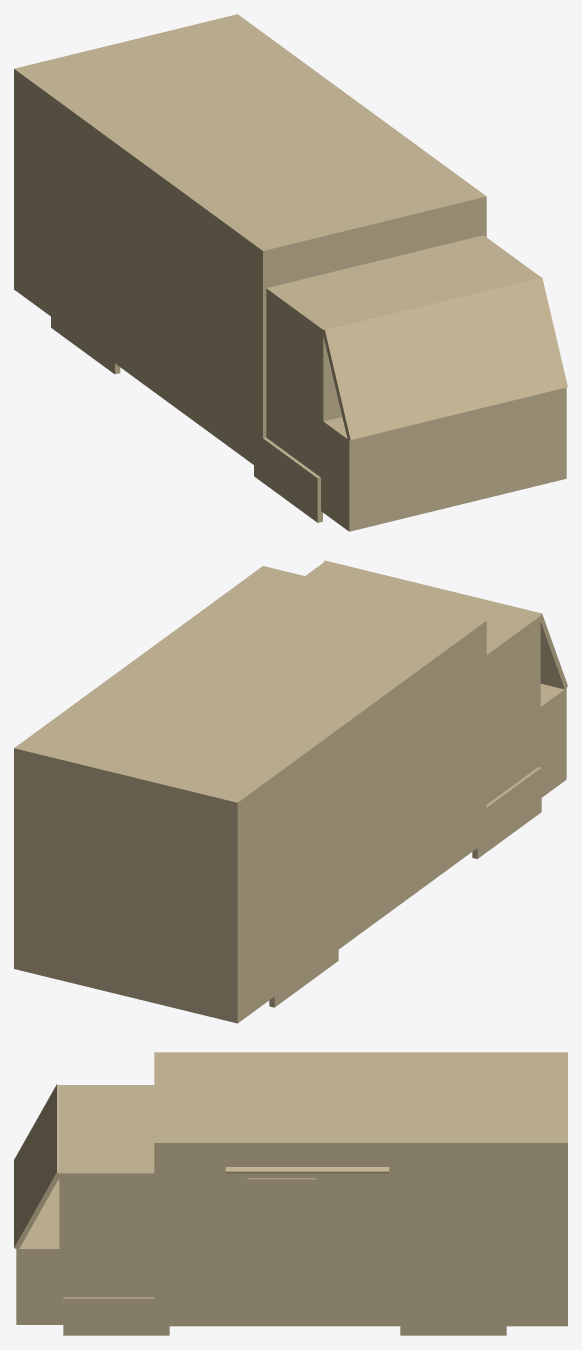
Rendered from van_body.fbx.
The picture shows the model from 3 angles, top to bottom: view 1: azimuth 30°, elevation 25°; view 2: azimuth 150°, elevation 25°; view 3: azimuth 270°, elevation 25°; orthographic projection. The views are drawn at different scales.
Parts seen in each view (by area): view 1: VanBody; view 2: VanBody; view 3: VanBody.
Boxes of the visible parts, x1,y1,x2,y2 form: VanBody: (14, 14, 567, 531); VanBody: (14, 560, 567, 1023); VanBody: (14, 1052, 567, 1335).
Size of the model in its own units: 2.16 by 2.08 by 5.42.
